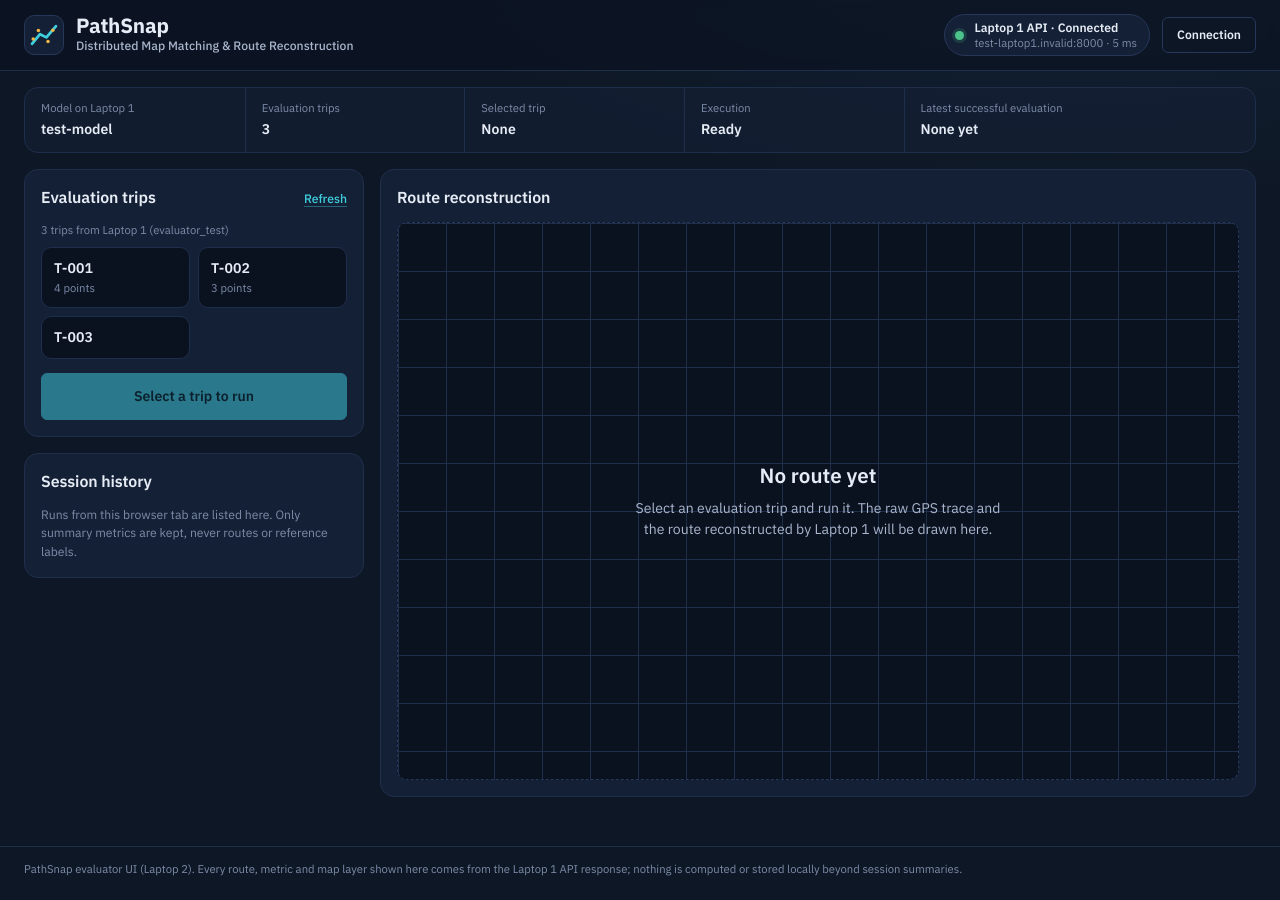
Test: evaluation flow › explains when a response has no map geometry at all
This screenshot has width=1280, height=900.
Click the radio button with test id "trip-T-001". click: x=116, y=277
box: [41, 247, 190, 308]
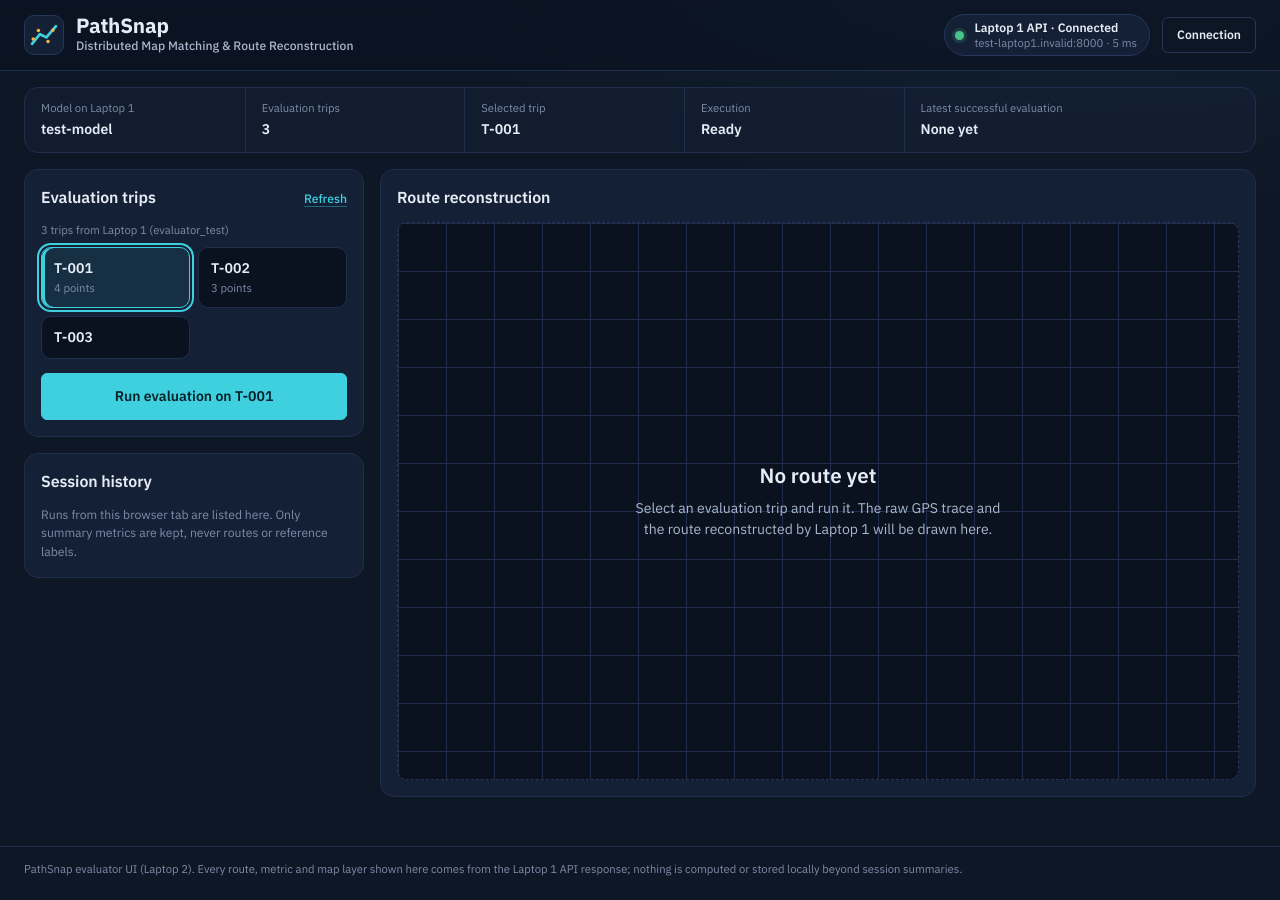
Click the button "Run evaluation on T-001". click: x=194, y=396
box: [41, 373, 347, 420]
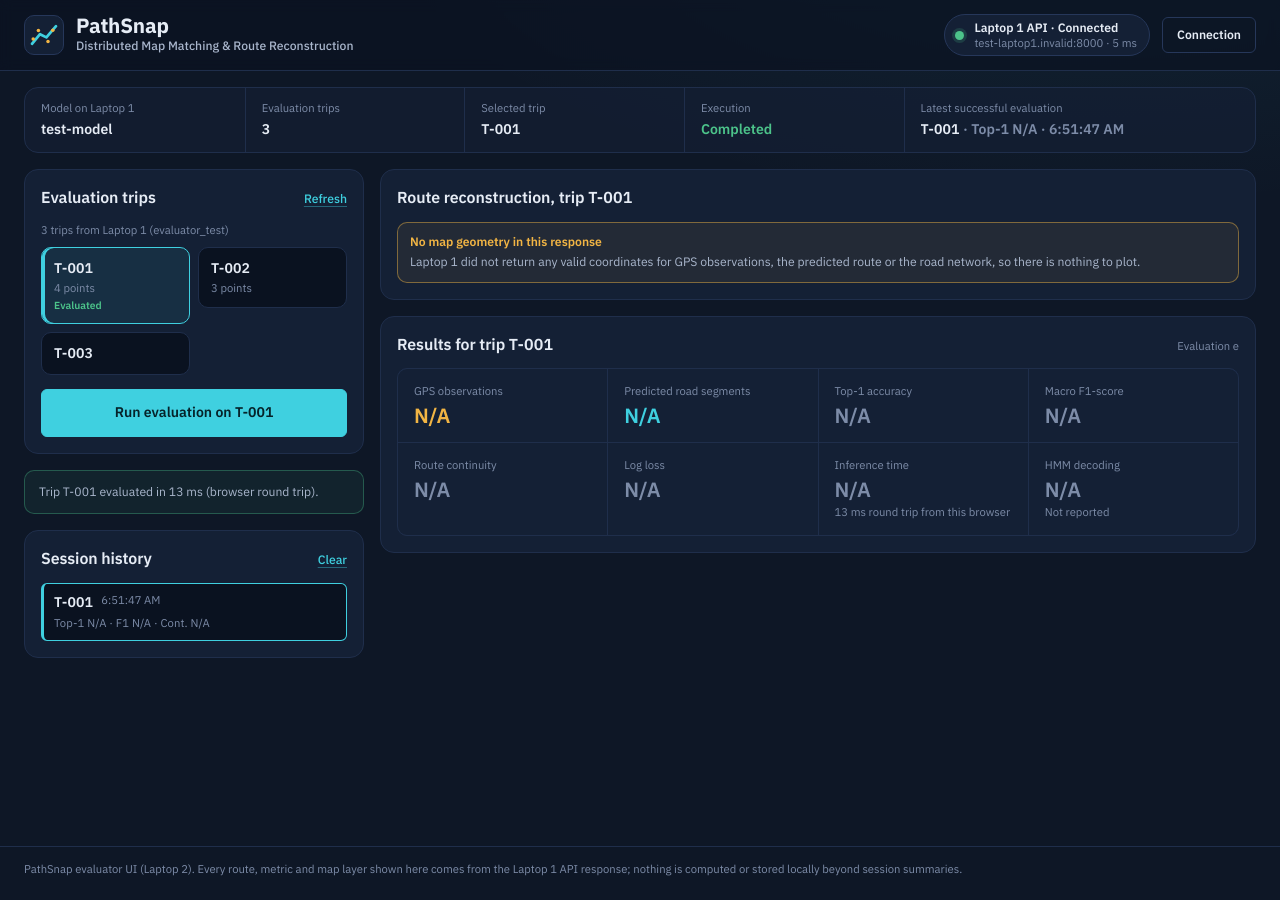
Expected: the text "No map geometry in this response" is shown, [410, 234, 602, 249]
